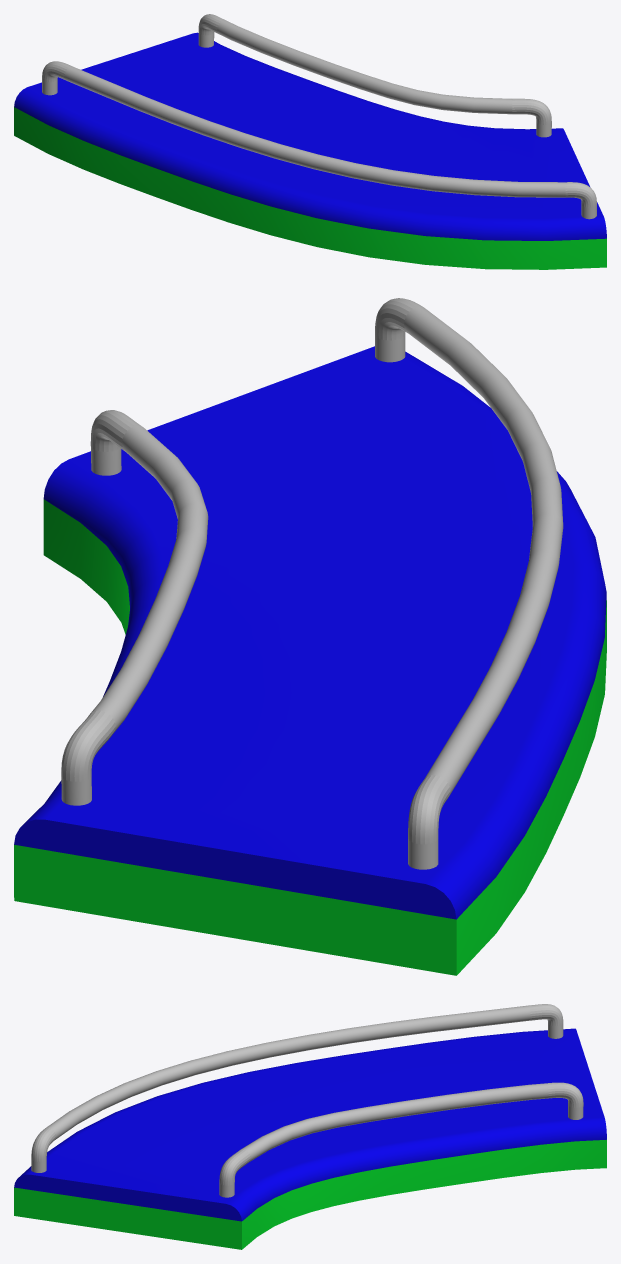
3 renders of one model, top to bottom at view 1: azimuth 30°, elevation 25°; view 2: azimuth 150°, elevation 25°; view 3: azimuth 270°, elevation 25°, orthographic. The views are drawn at different scales.
Parts seen in each view (by area): view 1: polySurface7, polySurface40, polySurface38; view 2: polySurface7, polySurface40, polySurface38; view 3: polySurface7, polySurface40, polySurface38.
Boxes of the visible parts, x1,y1,x2,y2 form: polySurface7: [14, 32, 606, 269]; polySurface40: [42, 61, 596, 219]; polySurface38: [198, 14, 551, 137]; polySurface7: [14, 346, 606, 975]; polySurface40: [375, 298, 563, 869]; polySurface38: [61, 410, 208, 805]; polySurface7: [14, 1028, 606, 1249]; polySurface40: [31, 1004, 563, 1172]; polySurface38: [219, 1082, 583, 1197].
Bounding box in the file's own units: 897 × 177 × 1229.
